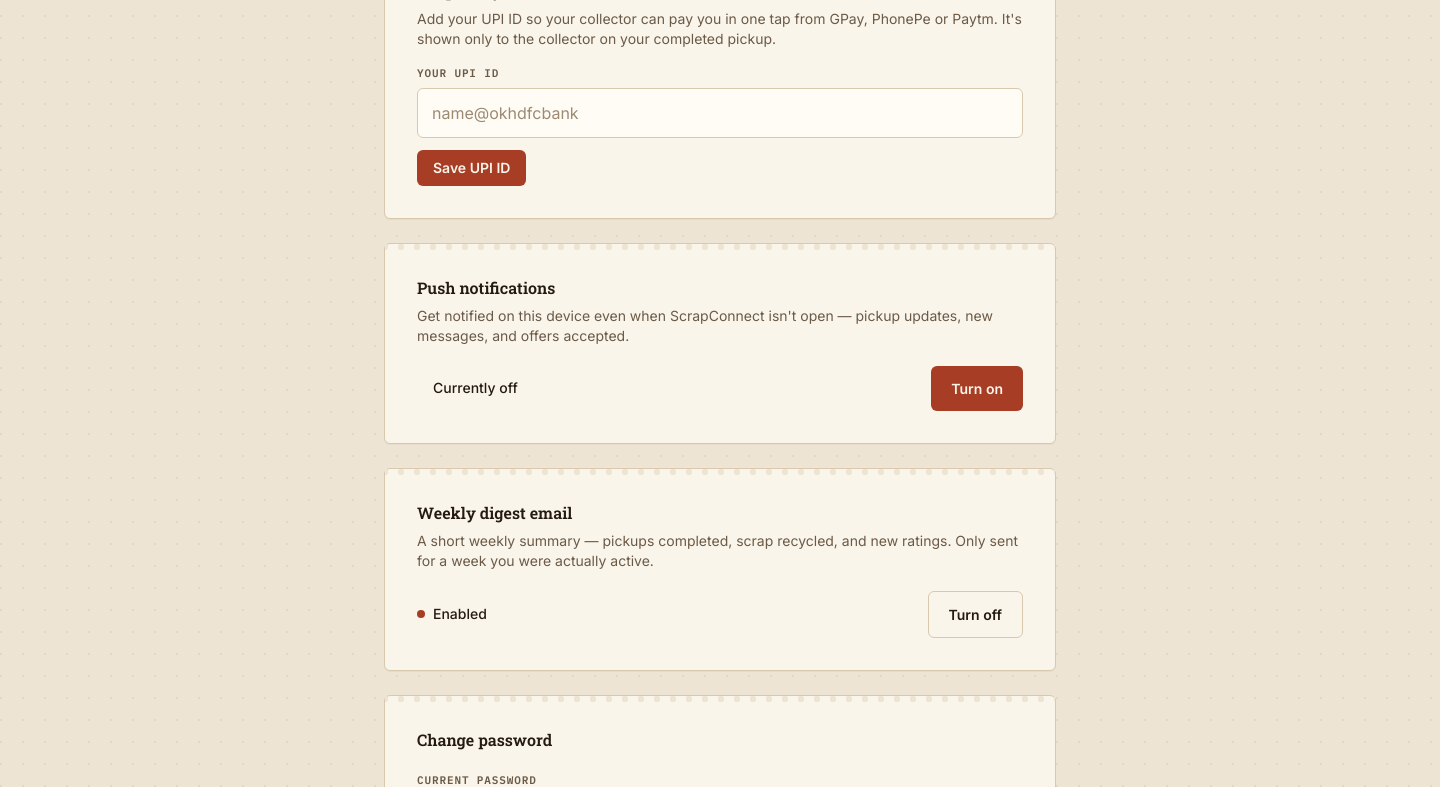
Profile — push notifications › shows an error and keeps the prior state if toggling push fails
(page scrolled)
Click the button "Turn on": x=977, y=388 x1=931 y1=366 x2=1023 y2=410
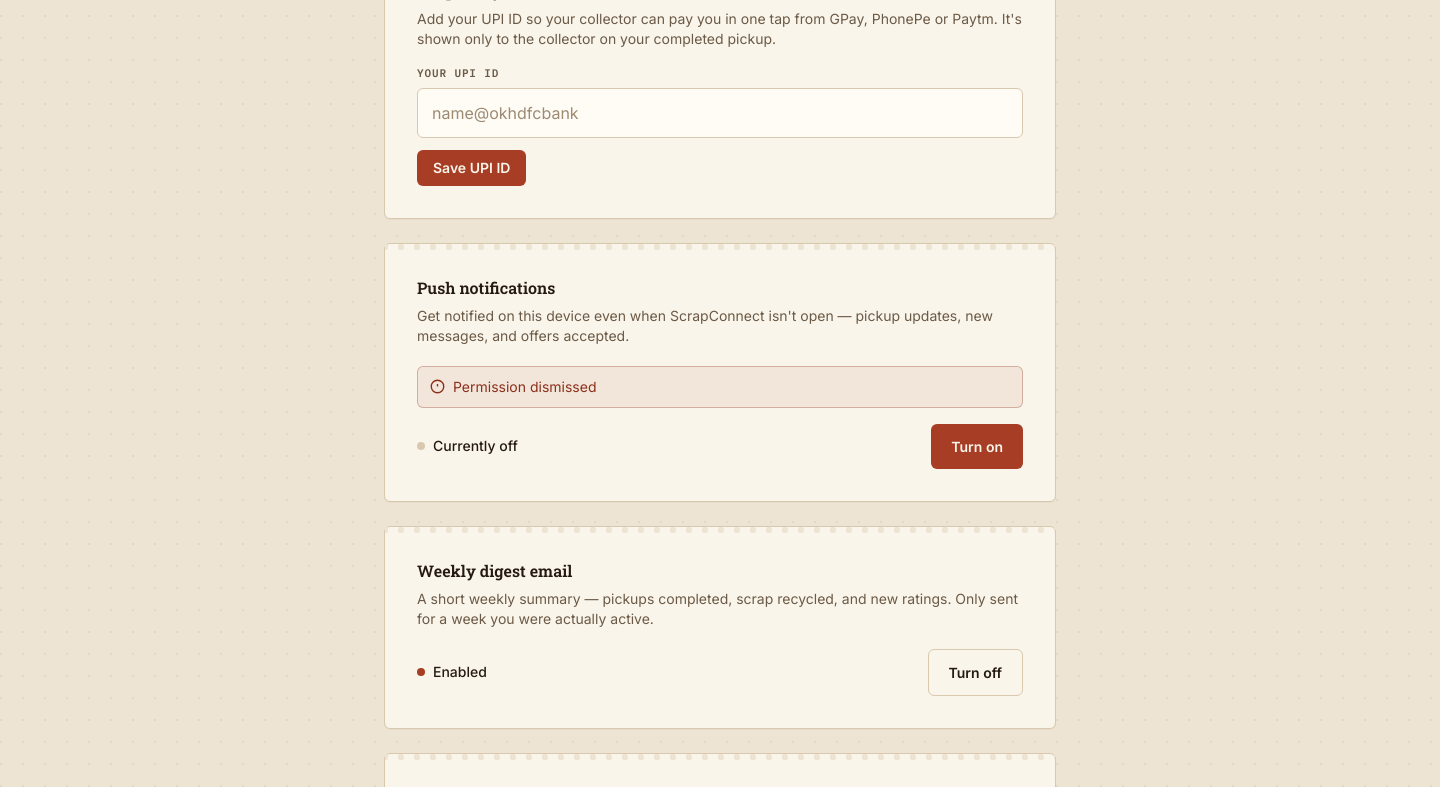
Expected: the text "Currently off" is shown, x1=417 y1=436 x2=518 y2=456
Now the text "Permission dismissed" is shown, box x1=417 y1=366 x2=1023 y2=408
